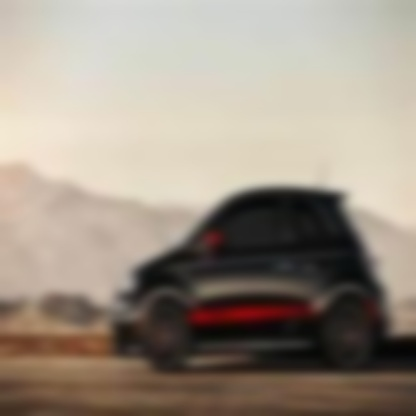Vehicle: (107, 157, 395, 382)
